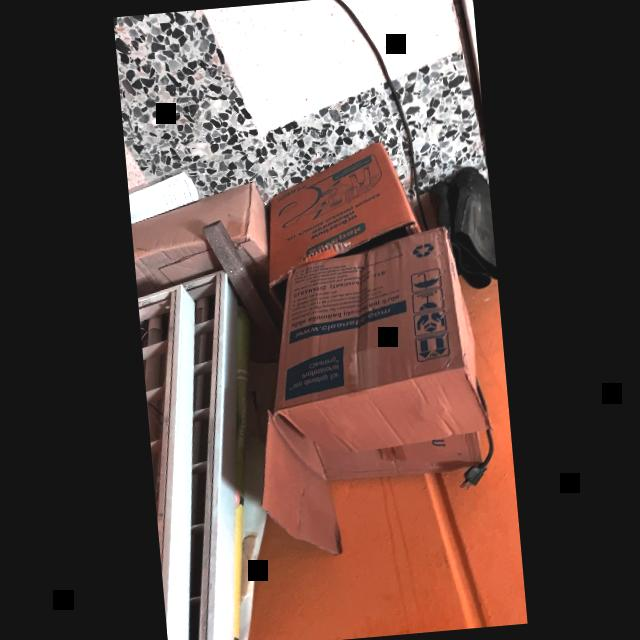cardboard_box: (234, 220, 504, 564), (255, 133, 430, 308)
